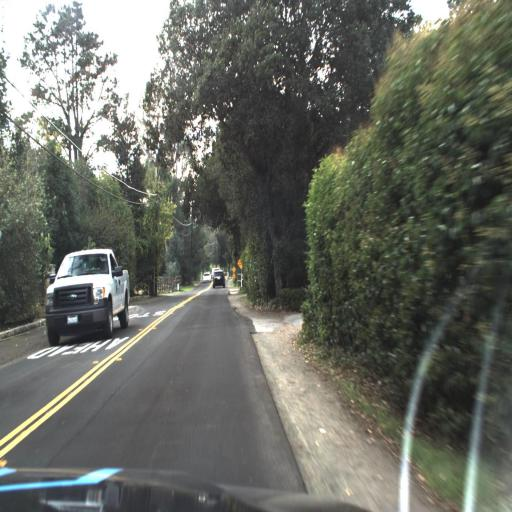car: (42, 245, 132, 345), (212, 270, 226, 290)
